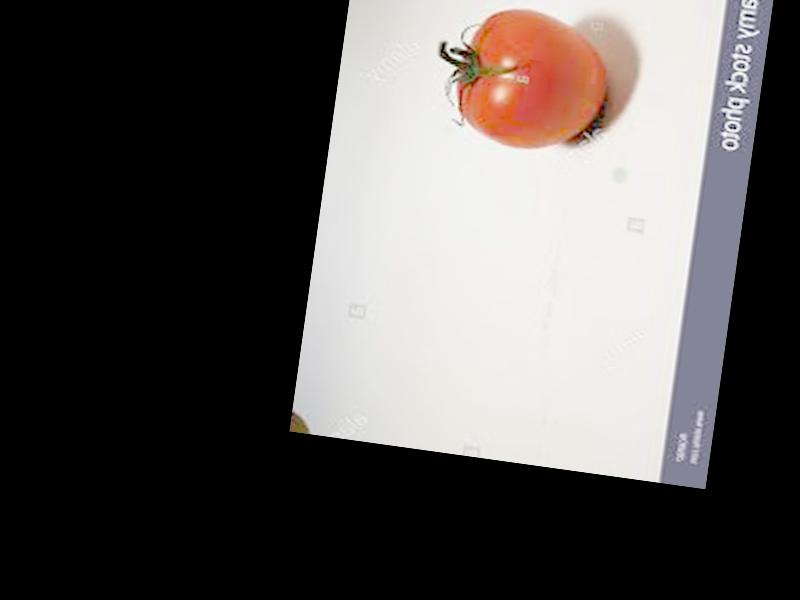Tomato: (451, 3, 615, 158)
